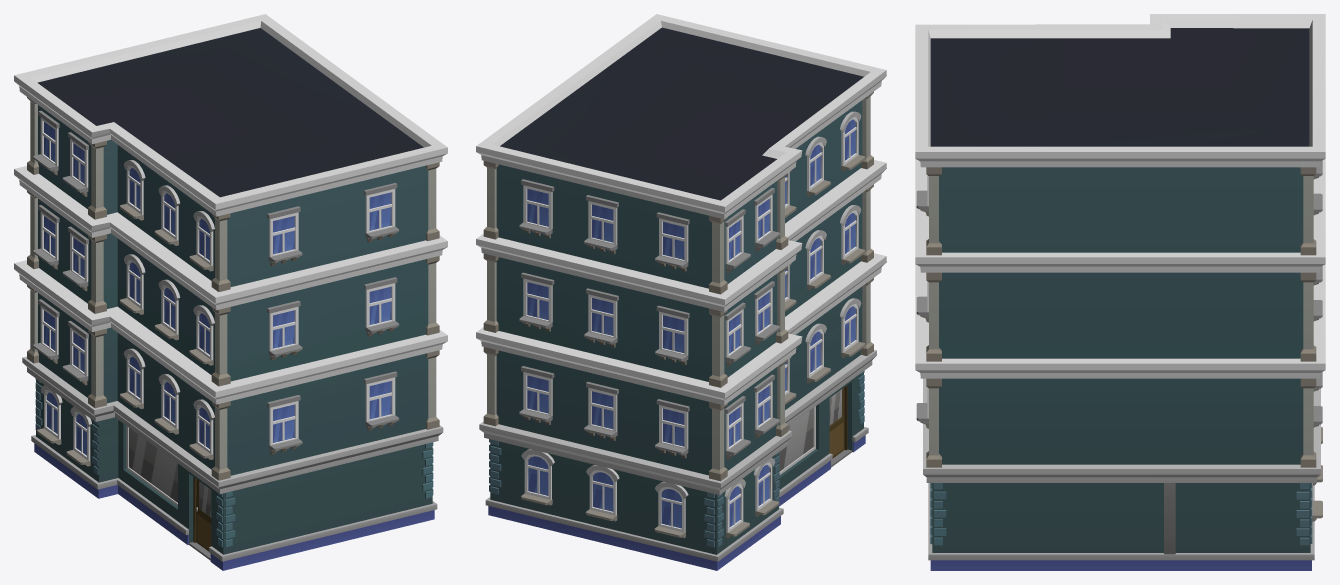
File: Building_1_4_B.fbx
3 views of the same model, side by side, from view 1: azimuth 30°, elevation 25°; view 2: azimuth 150°, elevation 25°; view 3: azimuth 270°, elevation 25° (orthographic). The views are drawn at different scales.
Parts seen in each view (by area): view 1: Building_1_4_B; view 2: Building_1_4_B; view 3: Building_1_4_B.
Boxes of the visible parts, x1,y1,x2,y2 form: Building_1_4_B: [14, 14, 447, 570]; Building_1_4_B: [476, 14, 886, 570]; Building_1_4_B: [915, 14, 1325, 570].
Bounding box in the file's own units: 841 × 1201 × 1057.
